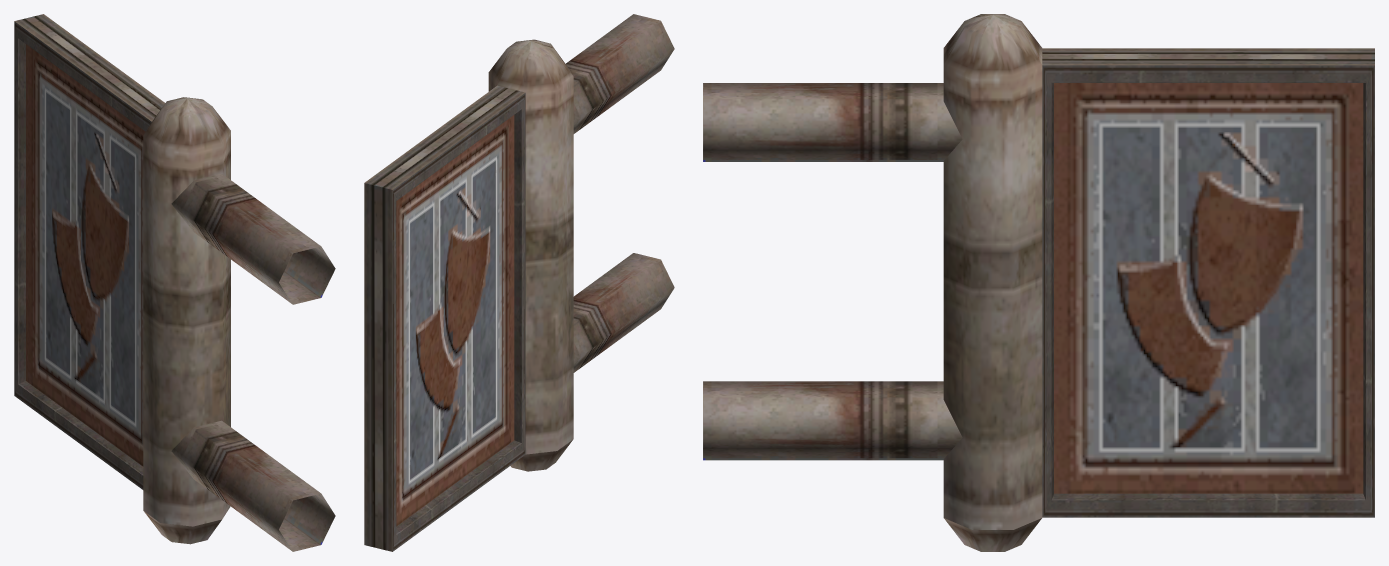
File: thm_sign_tato_hanging_l0.fbx
The picture shows the model from 3 angles, left to right: view 1: azimuth 30°, elevation 25°; view 2: azimuth 150°, elevation 25°; view 3: azimuth 270°, elevation 25°; orthographic projection. The views are drawn at different scales.
Parts seen in each view (by area): view 1: mesh_node; view 2: mesh_node; view 3: mesh_node.
Part boxes in pixels (x1,y1,x2,y2): mesh_node: [14, 14, 335, 551]; mesh_node: [364, 14, 674, 551]; mesh_node: [703, 14, 1374, 551].
Size of the model in its own units: 0.2973 by 1.78 by 2.02.
Materials: 2 (2 with a texture image).
